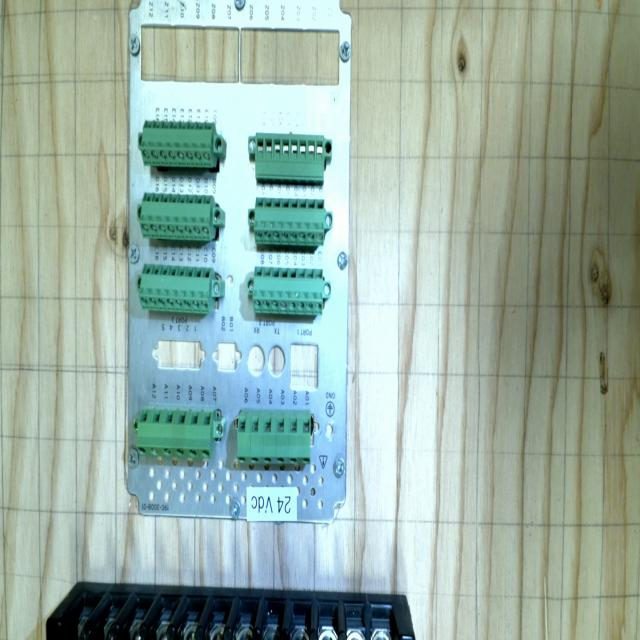Terminal_1: (136, 408, 212, 458), (237, 415, 311, 464)
Terminal_2: (138, 263, 213, 314), (139, 193, 213, 241), (252, 266, 324, 315), (253, 197, 325, 245), (140, 121, 214, 167)
